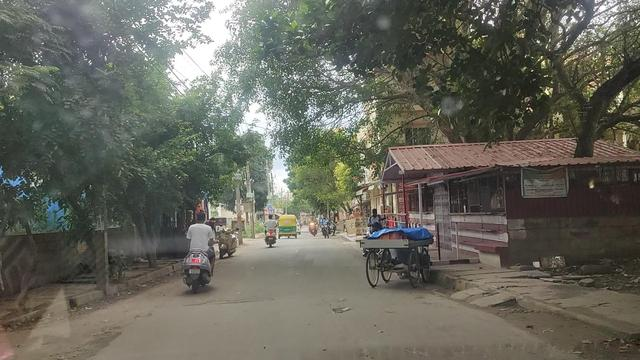LMV: (182, 212, 218, 289)
RoadDamages: (190, 294, 268, 311), (266, 215, 278, 248)
